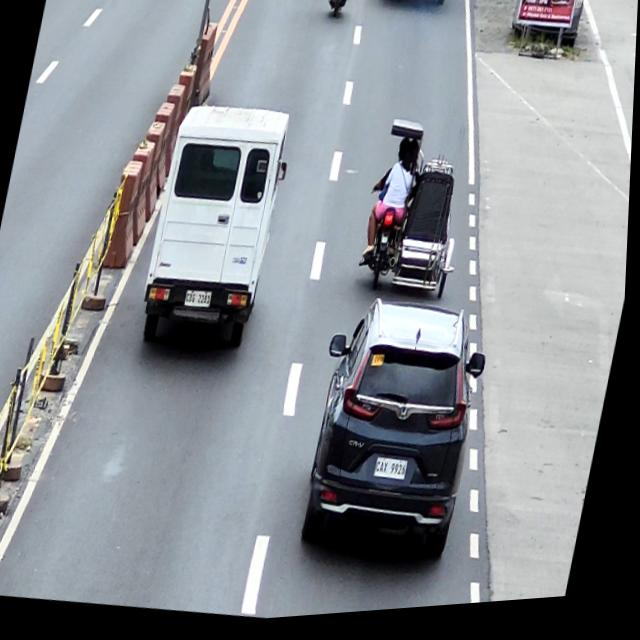Car: (292, 289, 501, 583), (138, 98, 300, 362)
License-Plate: (379, 463, 412, 491), (186, 291, 216, 312)
Tricycle: (355, 120, 482, 312)
